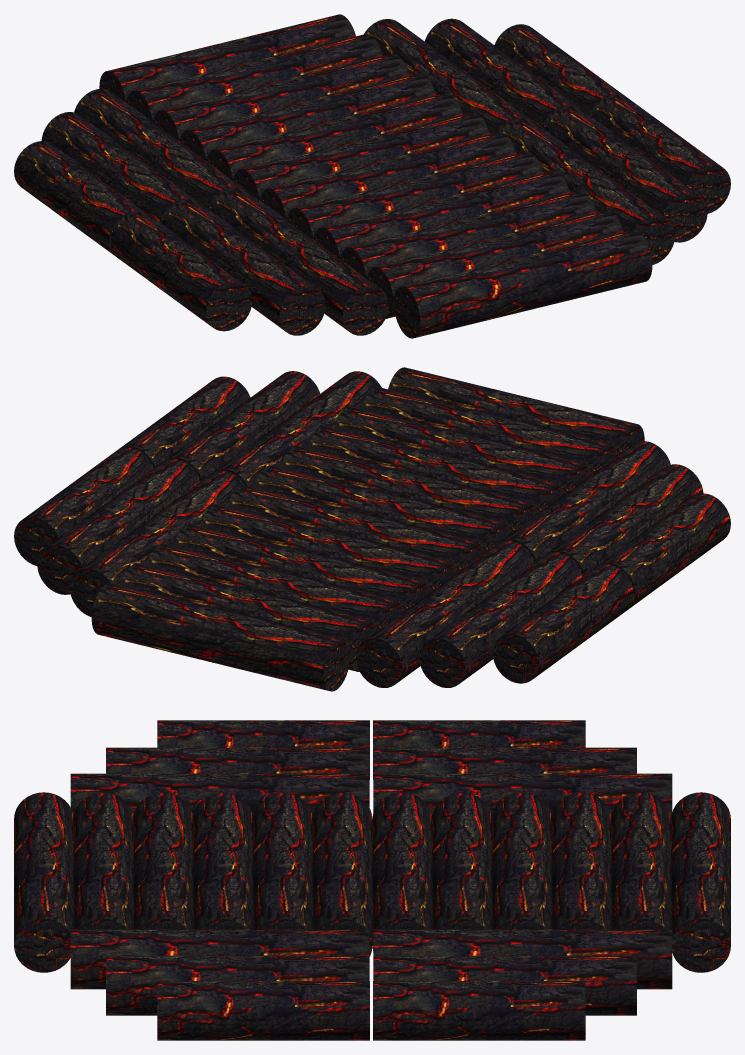
File: woodpile.fbx
The picture shows the model from 3 angles, top to bottom: view 1: azimuth 30°, elevation 25°; view 2: azimuth 150°, elevation 25°; view 3: azimuth 270°, elevation 25°; orthographic projection. The views are drawn at different scales.
Visible parts, largest first — view 1: Cylinder.001; view 2: Cylinder.001; view 3: Cylinder.001.
Part boxes in pixels (x1=…): Cylinder.001: x1=14, y1=14, x2=730, y2=338; Cylinder.001: x1=14, y1=367, x2=730, y2=691; Cylinder.001: x1=14, y1=720, x2=730, y2=1040.
Bounding box in the file's own units: 113 × 120 × 10.
